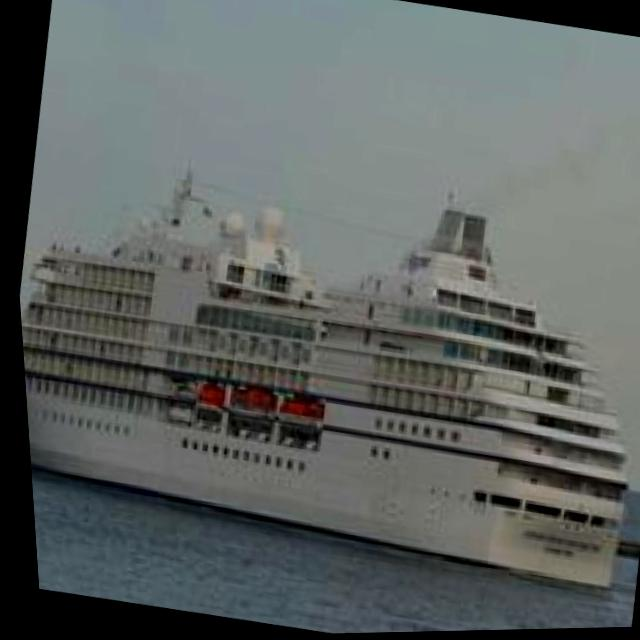ship2: (16, 171, 624, 600)
